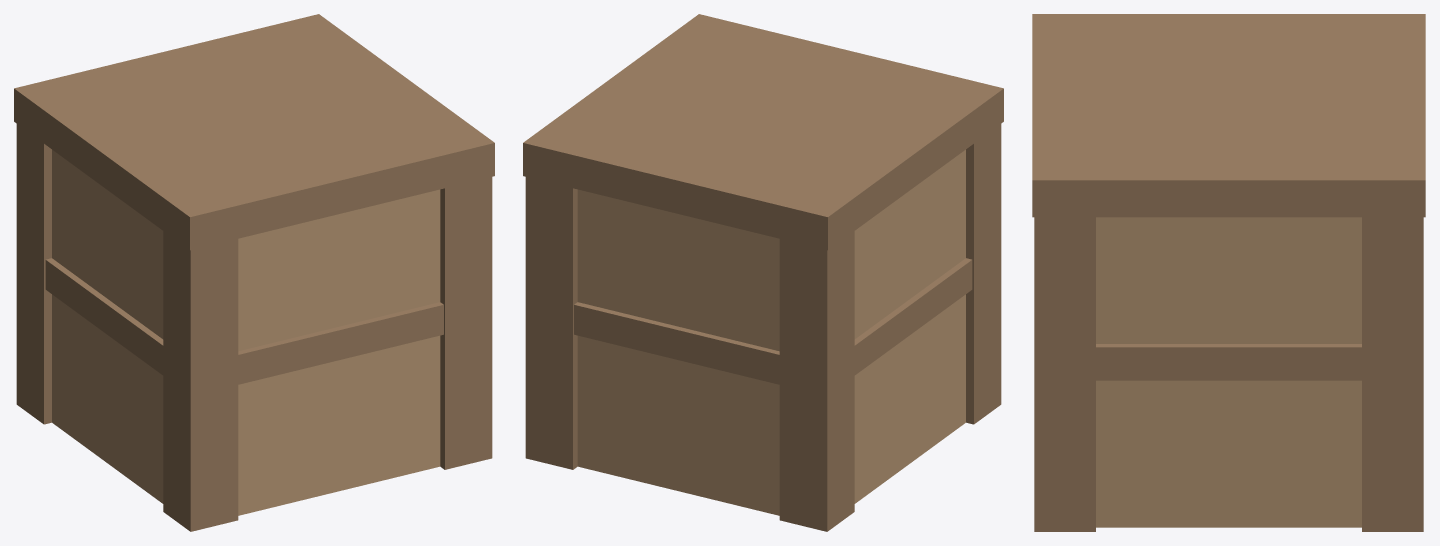
File: crate.glb
3 views of the same model, side by side, from view 1: azimuth 30°, elevation 25°; view 2: azimuth 150°, elevation 25°; view 3: azimuth 270°, elevation 25° (orthographic). The views are drawn at different scales.
Parts seen in each view (by area): view 1: body, frame_top, corner_-1_1, corner_1_1, frame_mid, corner_-1_-1; view 2: body, frame_top, corner_-1_-1, corner_1_-1, frame_mid, corner_-1_1; view 3: frame_top, body, corner_1_1, corner_1_-1, frame_mid.
Boxes of the visible parts, x1,y1,x2,y2 form: body: (52, 149, 440, 515); frame_top: (14, 14, 494, 250); corner_-1_1: (163, 231, 238, 531); corner_1_1: (440, 177, 492, 469); frame_mid: (45, 258, 443, 384); corner_-1_-1: (16, 124, 51, 424); body: (577, 149, 965, 515); frame_top: (523, 14, 1003, 250); corner_-1_-1: (779, 231, 854, 531); corner_1_-1: (525, 177, 577, 469); frame_mid: (574, 258, 972, 384); corner_-1_1: (966, 124, 1001, 424); frame_top: (1032, 14, 1425, 217); body: (1096, 217, 1361, 527); corner_1_1: (1034, 217, 1095, 531); corner_1_-1: (1362, 217, 1423, 531); frame_mid: (1096, 344, 1361, 380).
Size of the model in its own units: 0.9095 by 0.9 by 0.9095.
